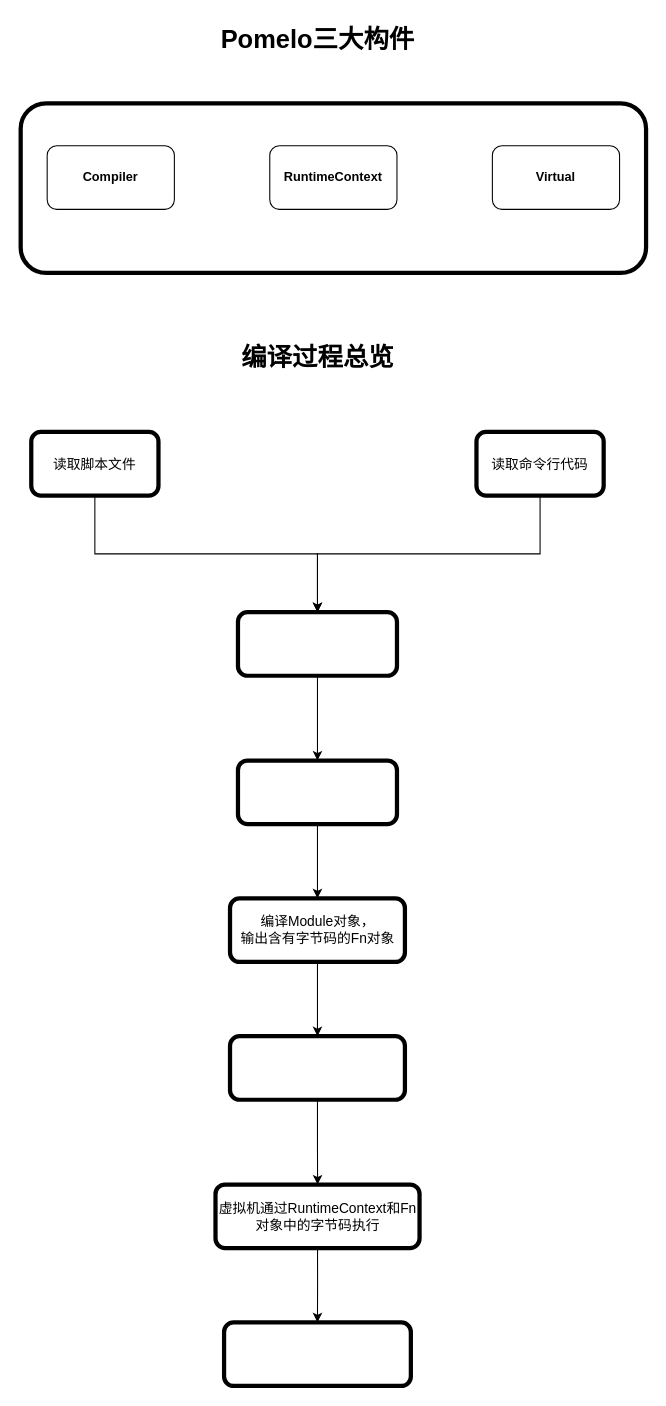
This 666x1406 diagram has some shape labels left out. Here are the shapes that lost their labels. From the top down, the centre of each, then its label:
At point 317,643: "创建RuntimeContext".
At point 317,792: "创建Module对象".
At point 317,1067: "创建虚拟机".
At point 316,1354: "返回执行结果".
